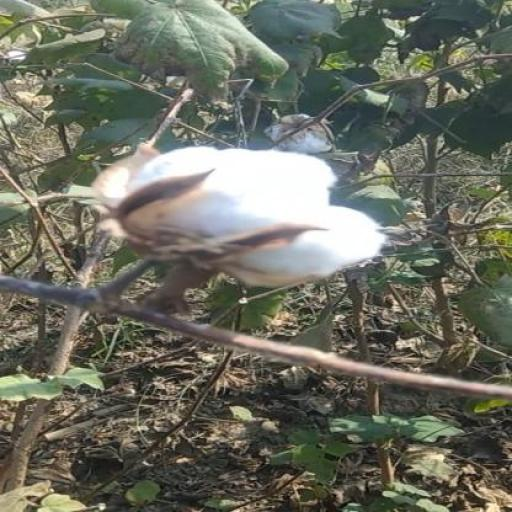cotton_ready: (58, 136, 385, 334)
